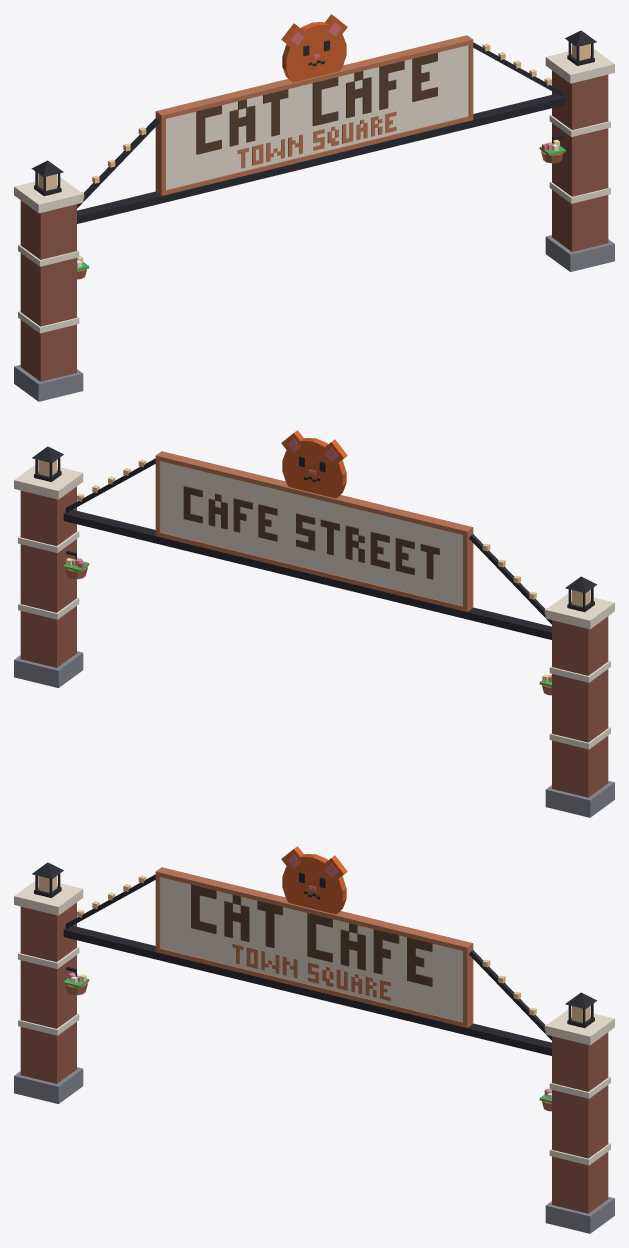
Rendered from CatCafe_Square_SignArch.glb.
3 renders of one model, top to bottom at view 1: azimuth 30°, elevation 25°; view 2: azimuth 150°, elevation 25°; view 3: azimuth 330°, elevation 25°, orthographic.
Parts seen in each view (by area): view 1: CatCafe_Square_SignArch; view 2: CatCafe_Square_SignArch; view 3: CatCafe_Square_SignArch.
Part boxes in pixels (<box>): CatCafe_Square_SignArch: <box>14,14,614,401</box>; CatCafe_Square_SignArch: <box>14,430,614,817</box>; CatCafe_Square_SignArch: <box>14,846,614,1233</box>.
Bounding box in the file's own units: 41.6 × 20.87 × 3.1.
1 material, 1 textured.
